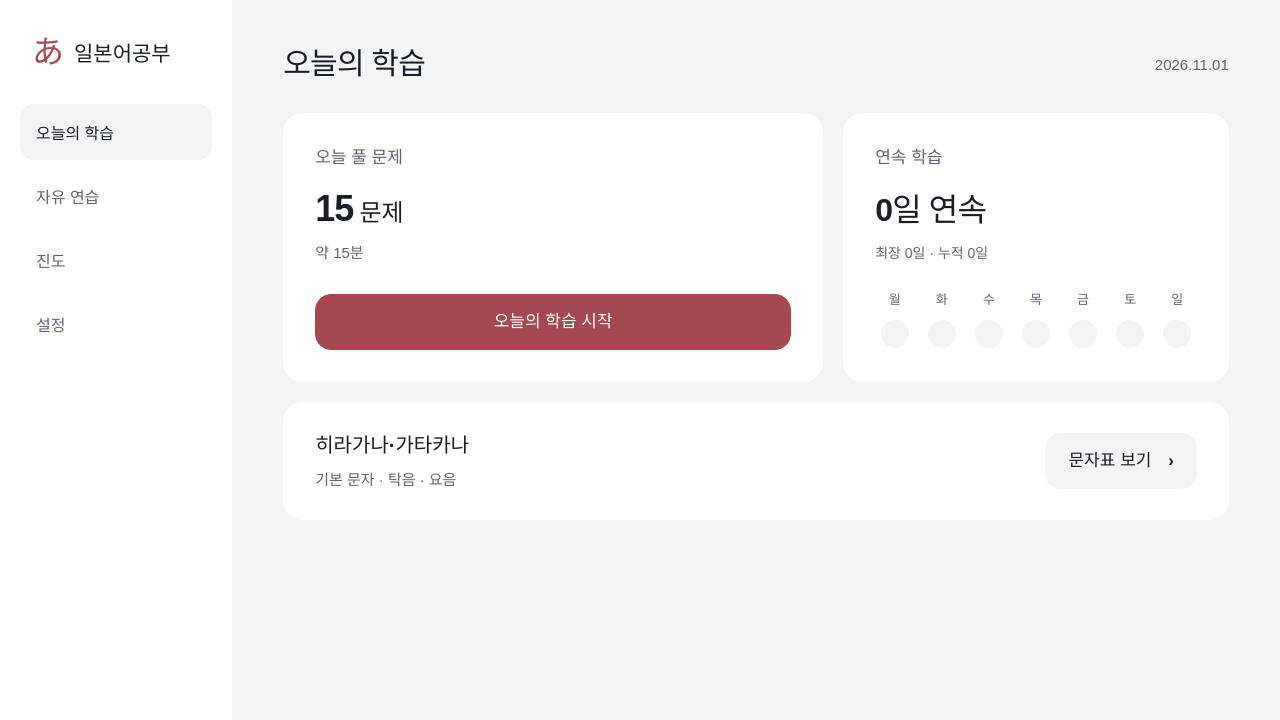
app navigation › keeps text study available when no Japanese voice is installed
Step 1. Click the button "설정" → (116, 324), box [20,296,212,352]
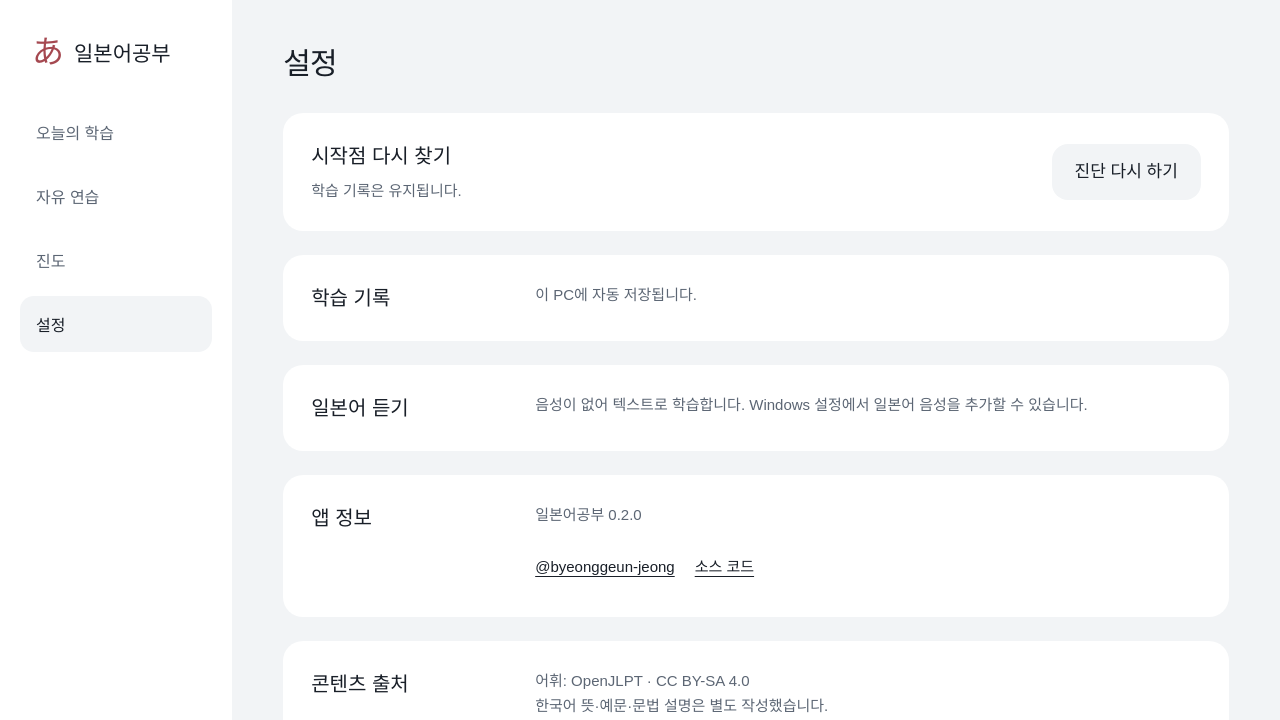
Expected: the text "음성이 없어 텍스트로 학습합니다. Windows 설정에서 일본어 음성을 추가할 수 있습니다." is shown, [535,396,1088,413]
Step 2. Click the button "오늘의 학습" → (116, 132), box [20,104,212,160]
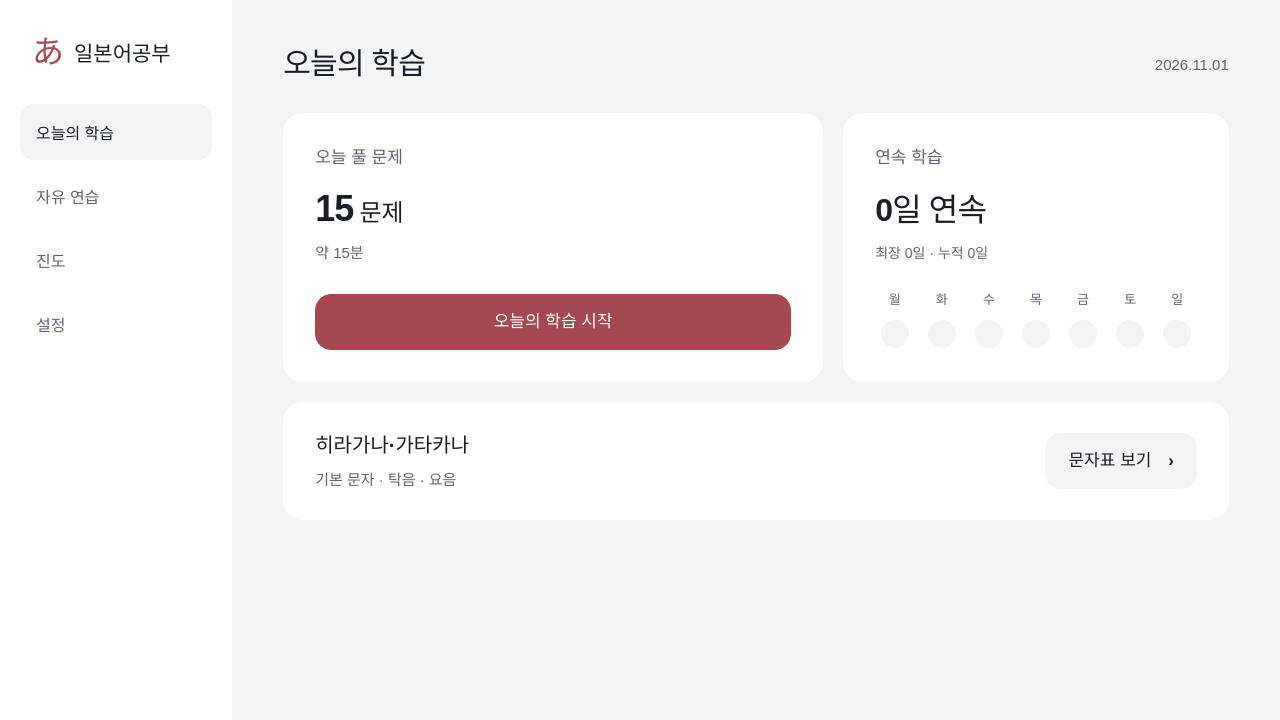
Expected: the button "오늘의 학습 시작" is shown, [315,294,791,350]
